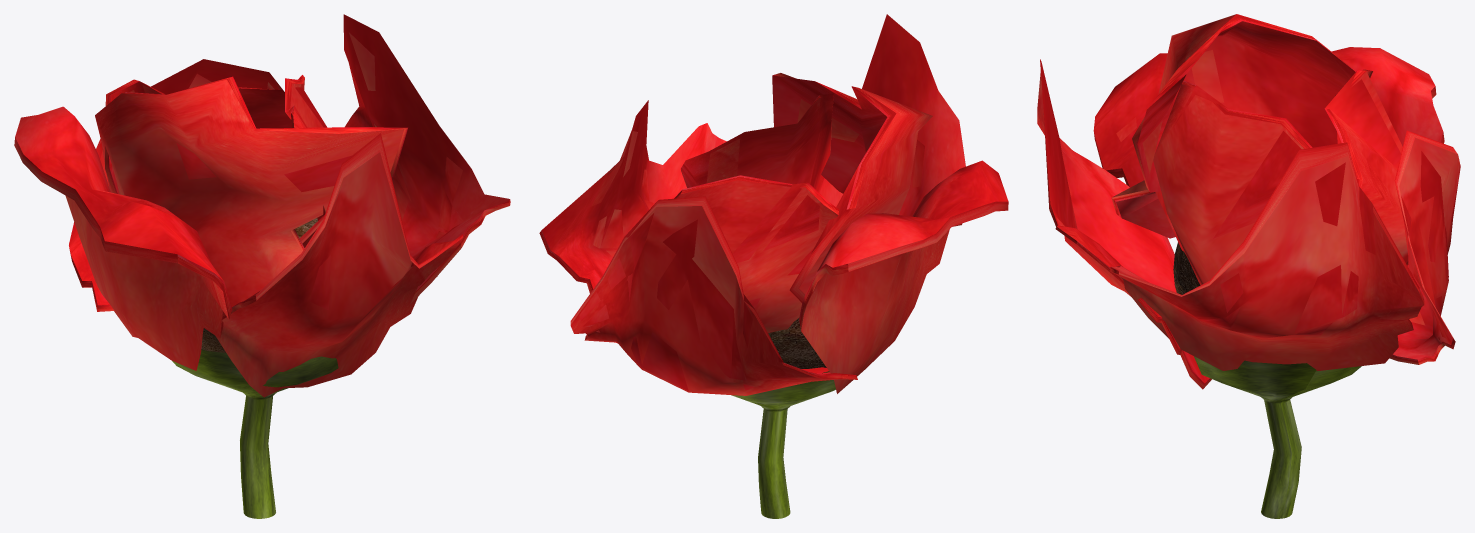
File: Poppy_BlendNew.fbx
3 views of the same model, side by side, from view 1: azimuth 30°, elevation 25°; view 2: azimuth 150°, elevation 25°; view 3: azimuth 270°, elevation 25° (orthographic). The views are drawn at different scales.
Parts seen in each view (by area): view 1: pCube8; view 2: pCube8; view 3: pCube8.
Boxes of the visible parts, x1,y1,x2,y2 form: pCube8: [14, 14, 510, 518]; pCube8: [539, 14, 1008, 518]; pCube8: [1037, 14, 1460, 518].
Bounding box in the file's own units: 0.0776 × 0.0875 × 0.0738.
Materials: 3 (3 with a texture image).
